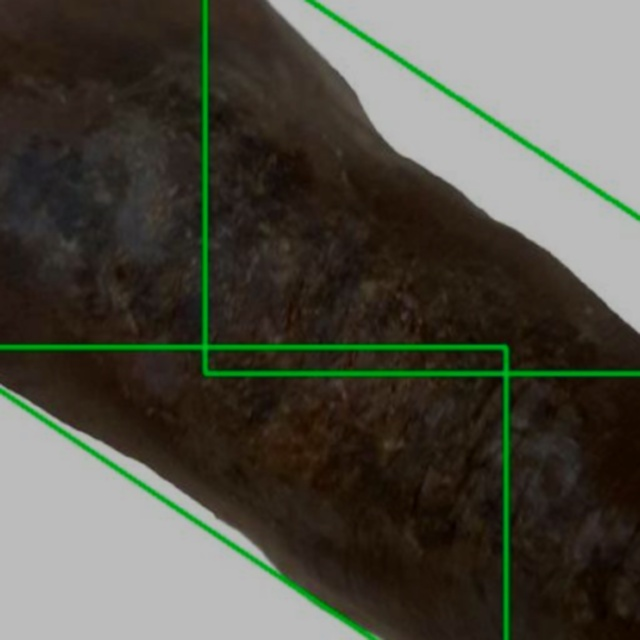Contact Dermatitis: (0, 0, 639, 639), (205, 0, 639, 373), (0, 347, 506, 639)
